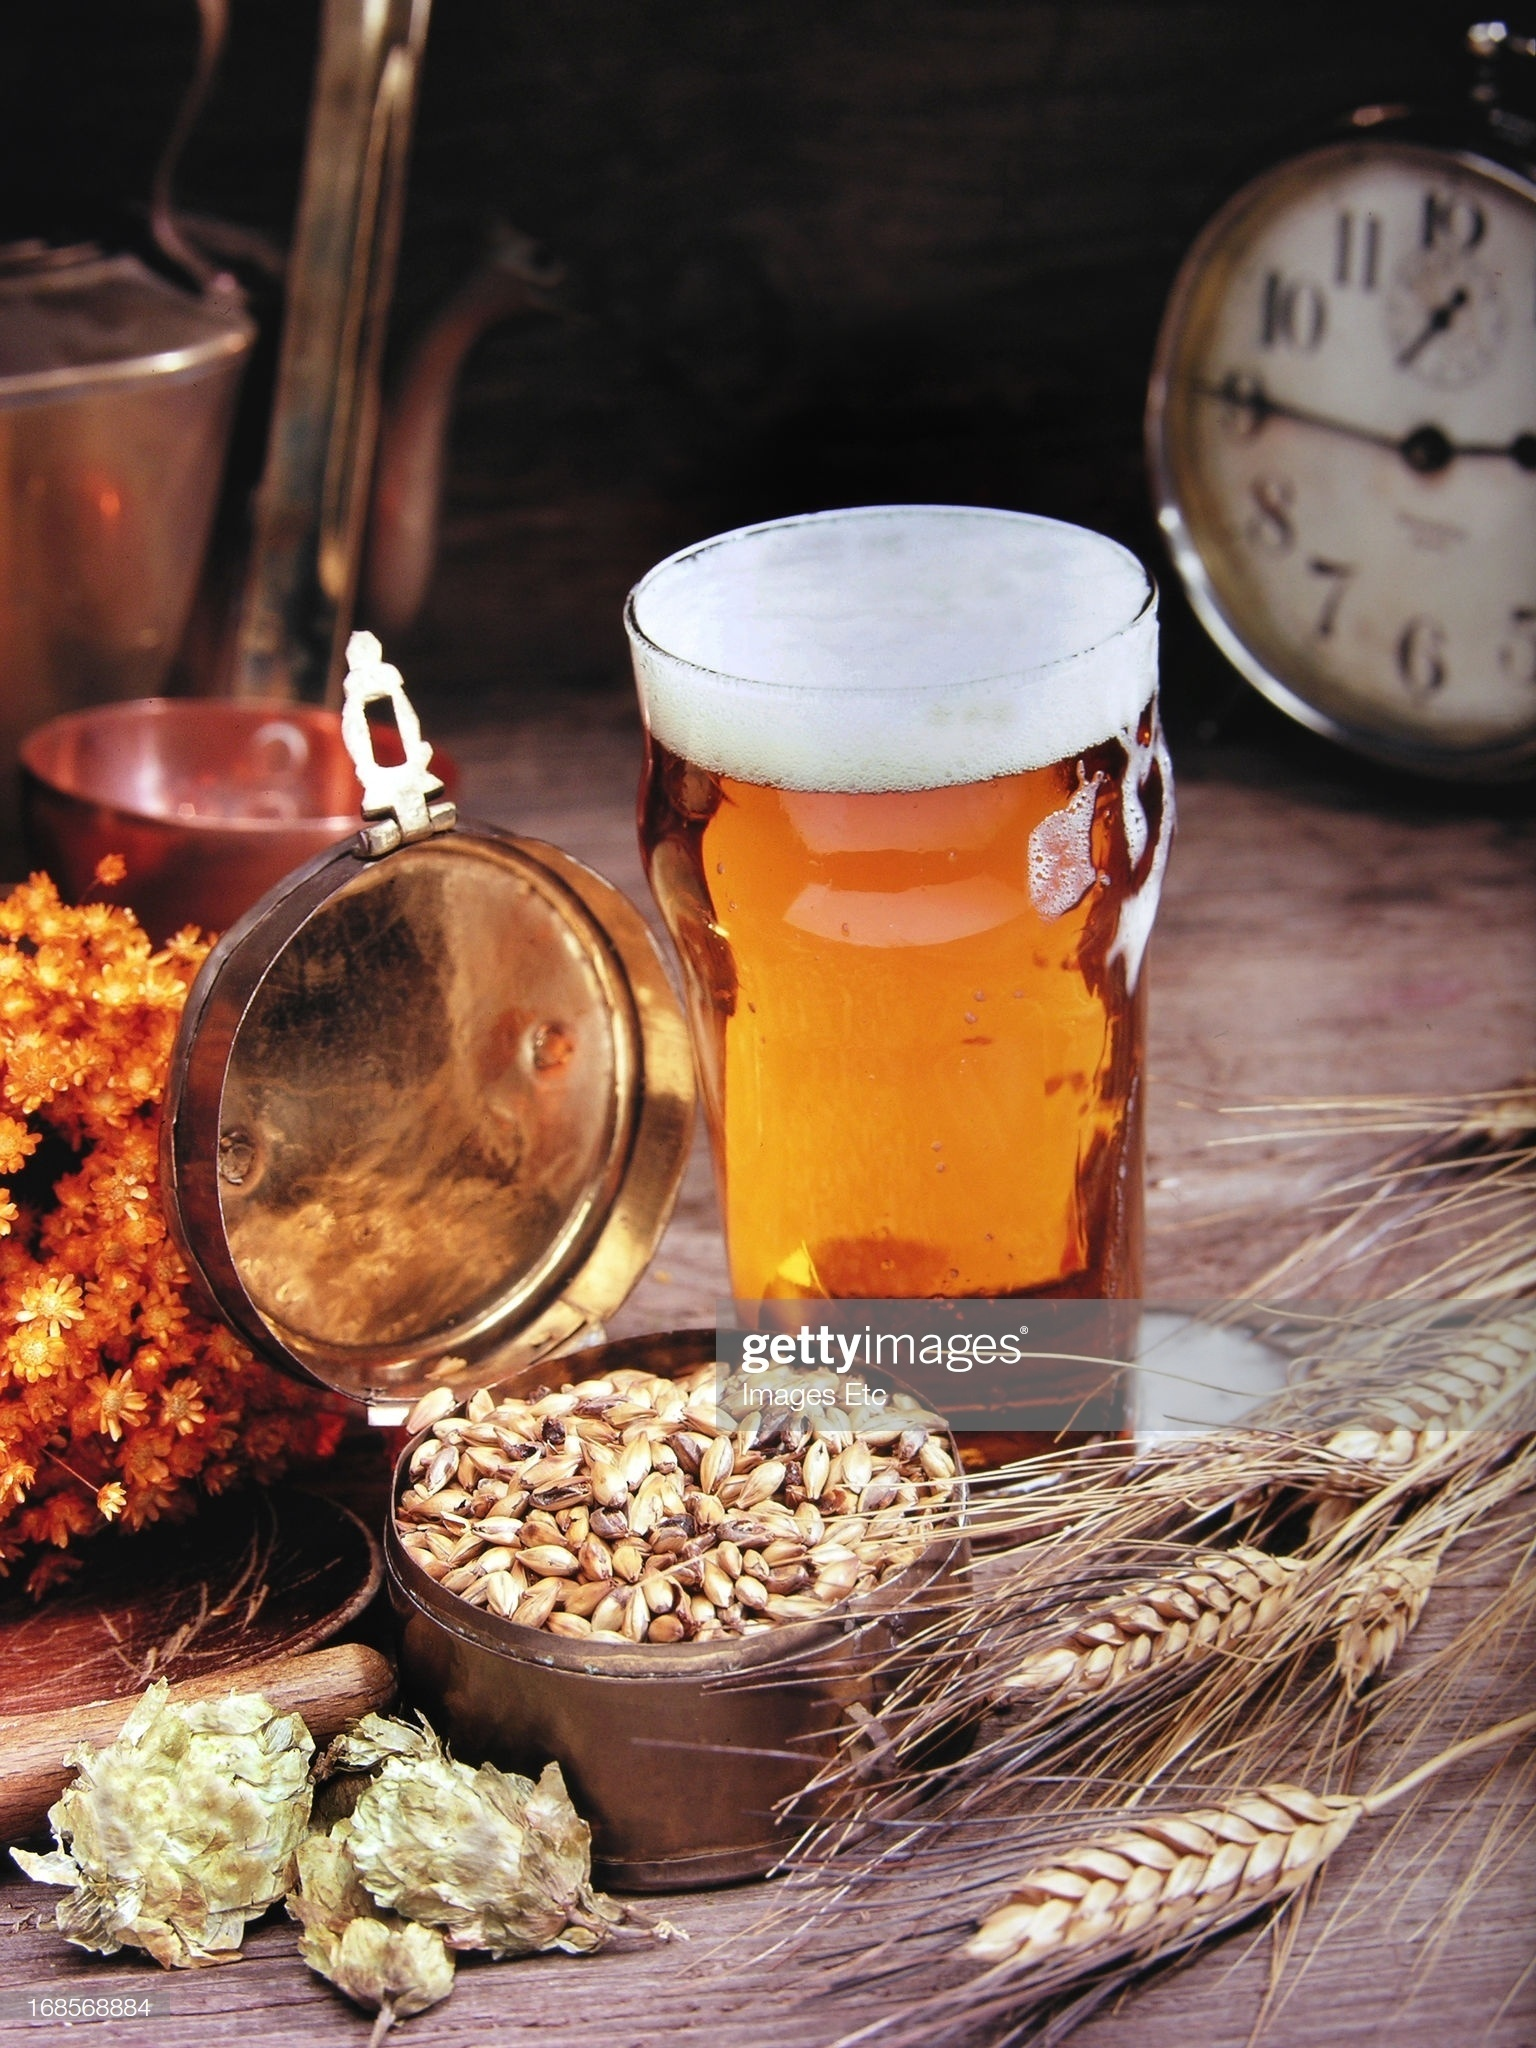whiskey: (636, 508, 1160, 1422)
